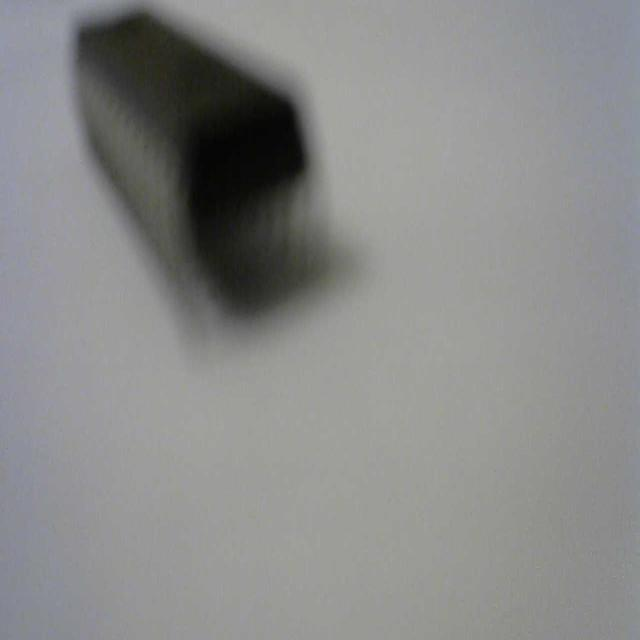atmega: (69, 6, 335, 340)
